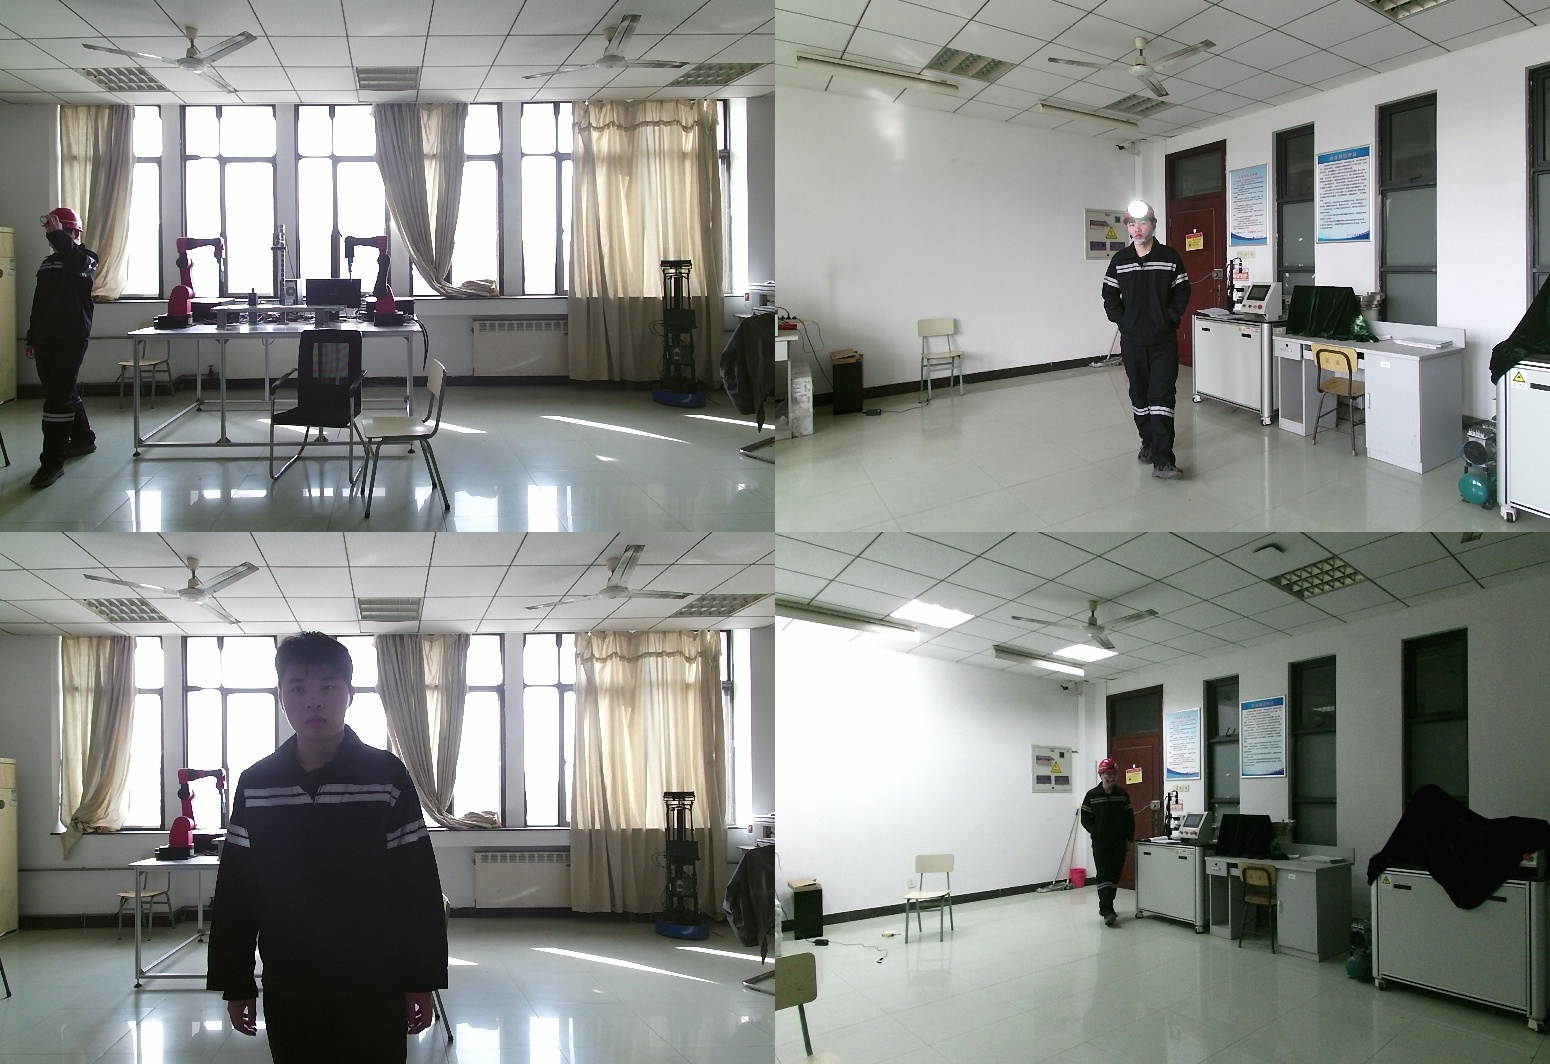person: (220, 632, 459, 1064), (1100, 203, 1200, 480), (25, 210, 101, 489), (1078, 759, 1139, 929)
